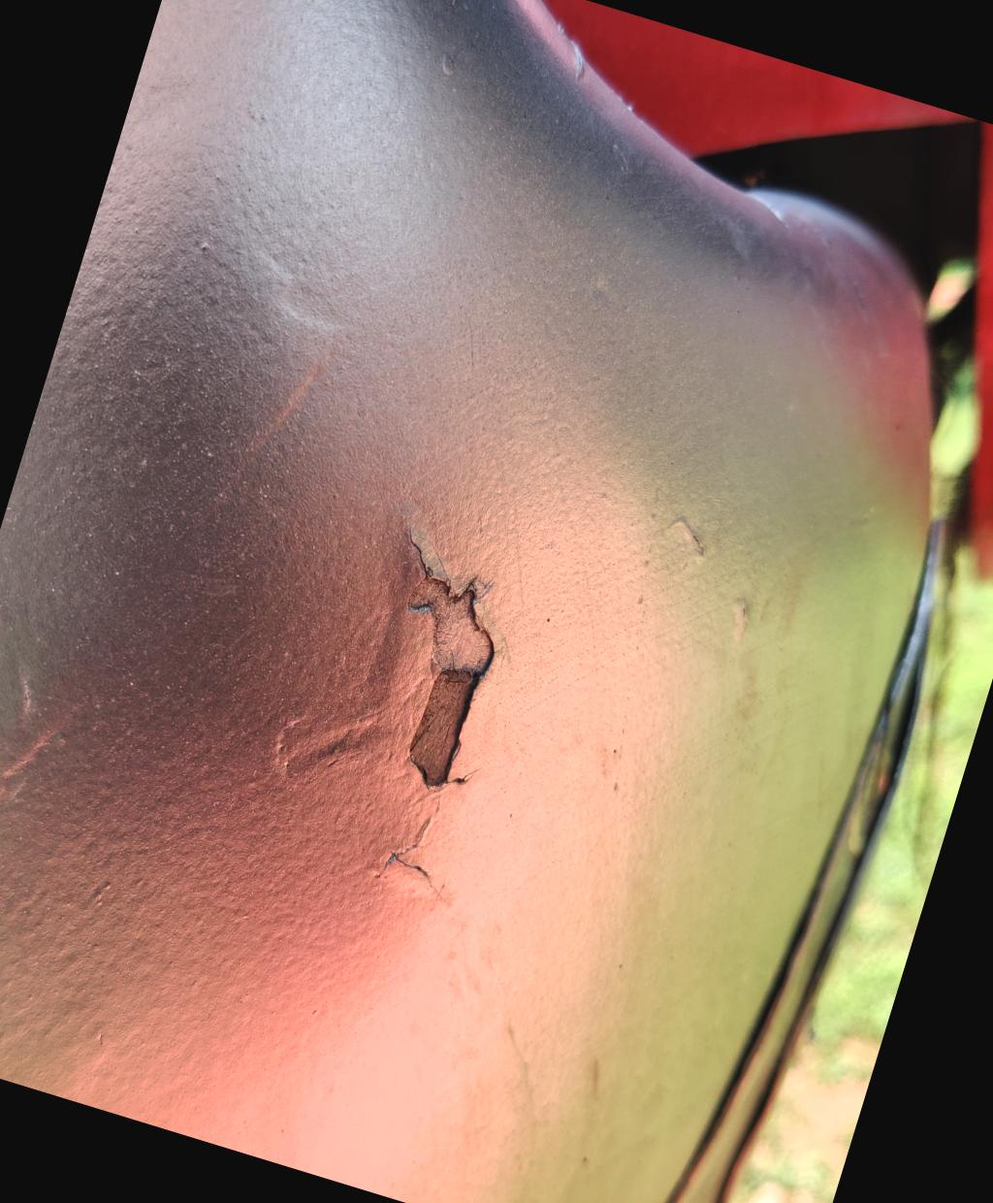corrosion: (352, 552, 526, 804)
